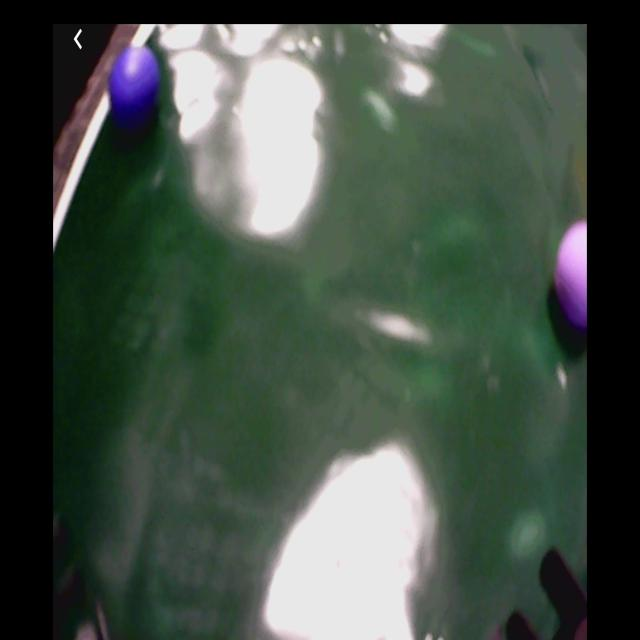ball: (110, 45, 161, 118), (557, 222, 588, 328)
